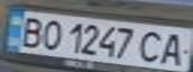1: (63, 20, 84, 54)
2: (78, 21, 100, 56)
4: (96, 24, 121, 58)
7: (115, 25, 139, 61)
A: (157, 29, 190, 66)
B: (12, 14, 48, 48)
C: (136, 28, 169, 64)
O: (36, 17, 66, 52)
